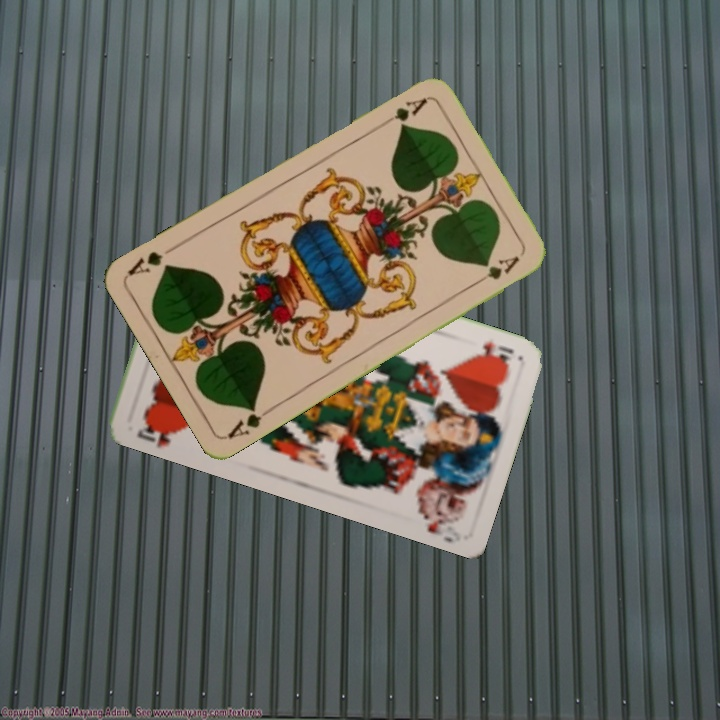GA: (224, 401, 276, 442), (375, 93, 430, 131)
HO: (133, 415, 183, 449), (469, 336, 517, 367)
